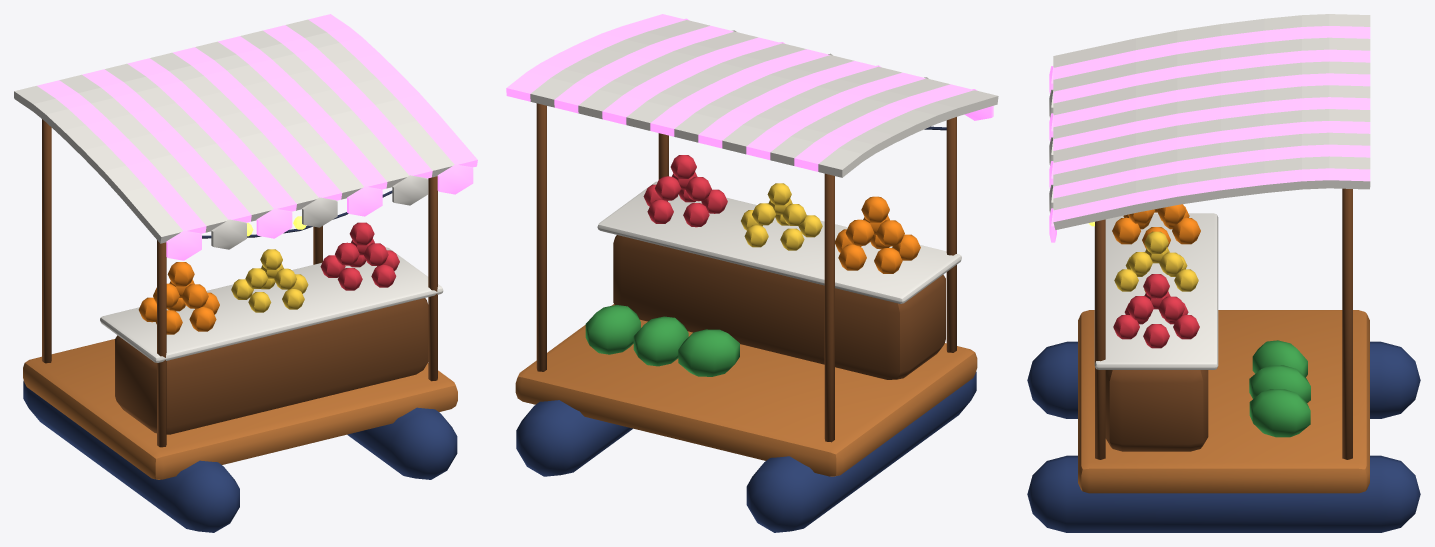
The model's file is W1_MarketStall.fbx.
The picture shows the model from 3 angles, left to right: view 1: azimuth 30°, elevation 25°; view 2: azimuth 150°, elevation 25°; view 3: azimuth 270°, elevation 25°; orthographic projection. The views are drawn at different scales.
Visible parts, largest first — view 1: W1_MarketStall; view 2: W1_MarketStall; view 3: W1_MarketStall.
Part boxes in pixels (box(x1,y1,x2,y2)): W1_MarketStall: box(14, 14, 477, 532); W1_MarketStall: box(506, 14, 998, 532); W1_MarketStall: box(1027, 14, 1420, 532).
Bounding box in the file's own units: 3.5 × 3.69 × 3.5.
